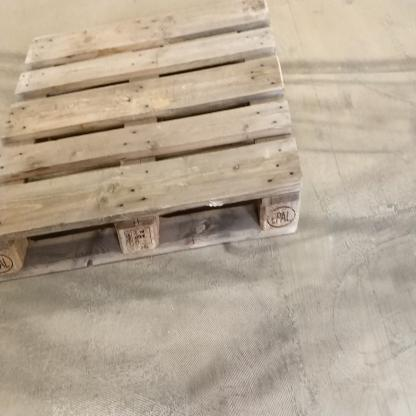BoxFace: (0, 1, 306, 285)
